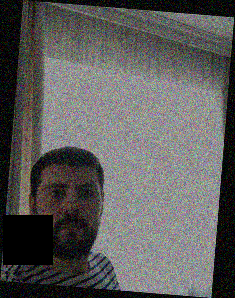without_mask: (33, 177, 101, 261)
